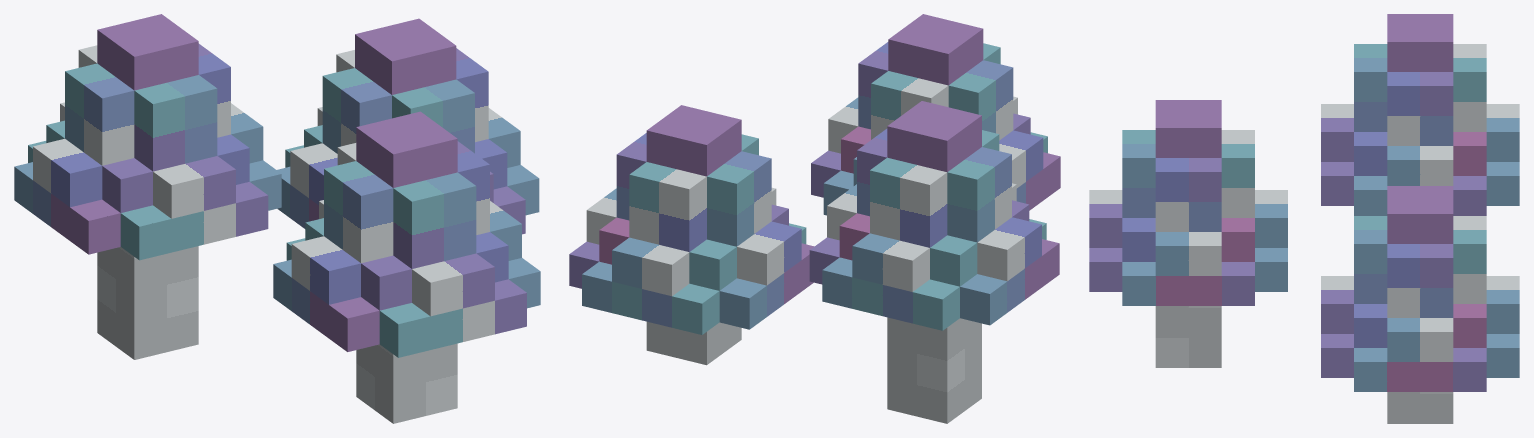
File: mushrooms.fbx
3 views of the same model, side by side, from view 1: azimuth 30°, elevation 25°; view 2: azimuth 150°, elevation 25°; view 3: azimuth 270°, elevation 25° (orthographic). The views are drawn at different scales.
Parts seen in each view (by area): view 1: mushrooms.001; view 2: mushrooms.001; view 3: mushrooms.001.
Boxes of the visible parts, x1,y1,x2,y2 form: mushrooms.001: (14,14,540,423); mushrooms.001: (569,14,1060,423); mushrooms.001: (1089,14,1519,423).
Bounding box in the file's own units: 1.4 × 0.9 × 1.3.
Materials: 1 (1 with a texture image).
